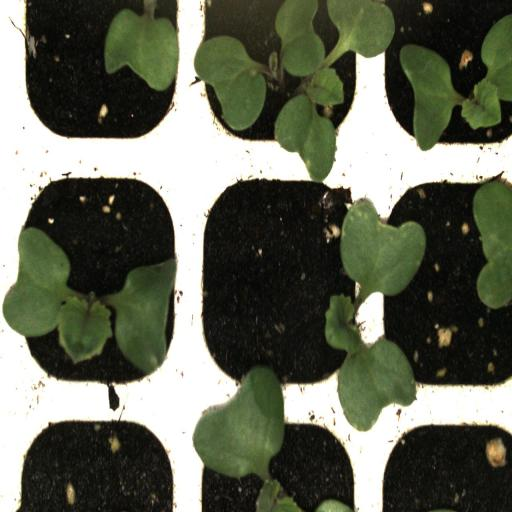seedling: (186, 156, 384, 404), (10, 155, 188, 402), (370, 2, 512, 162)
twoseedling: (189, 2, 371, 165)
